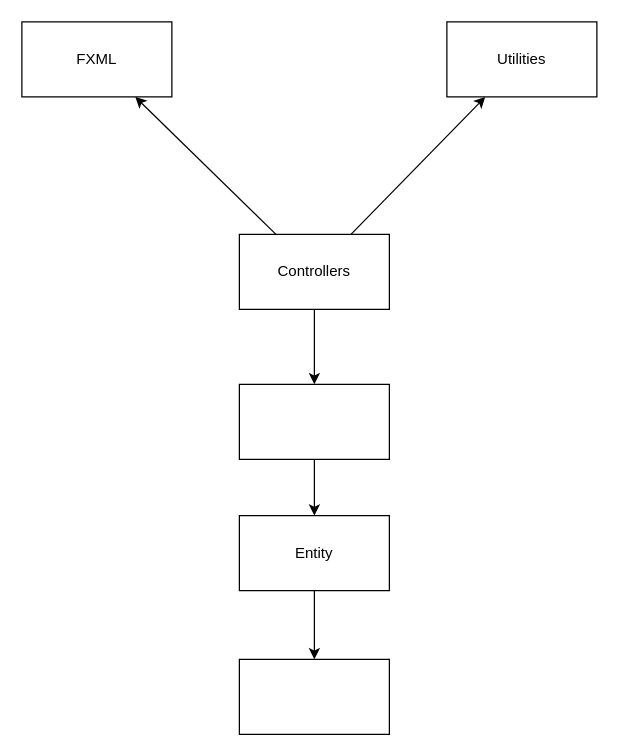
Some shapes in this 619 by 756 pixel diagram are drawn without their labels. The shapes that lost their labels are listed below. From the top down, each one's centre as x and y in pixels, then its label:
[313,421]: Entities
[313,696]: Database<Entity>
